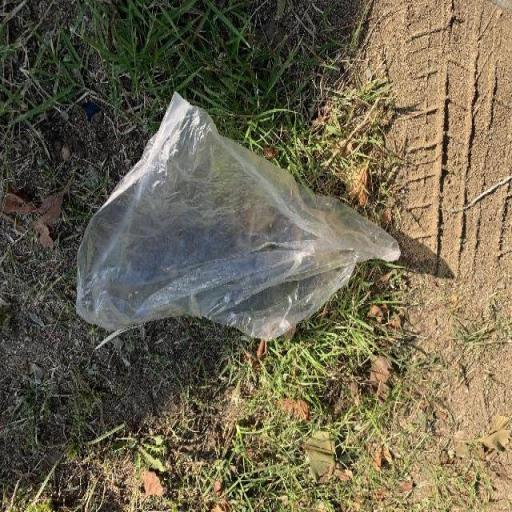plastic-bag: (70, 88, 405, 344)
